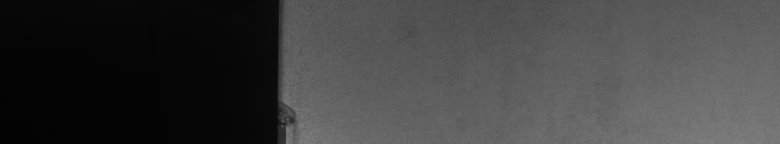hb: (288, 97, 305, 136)
